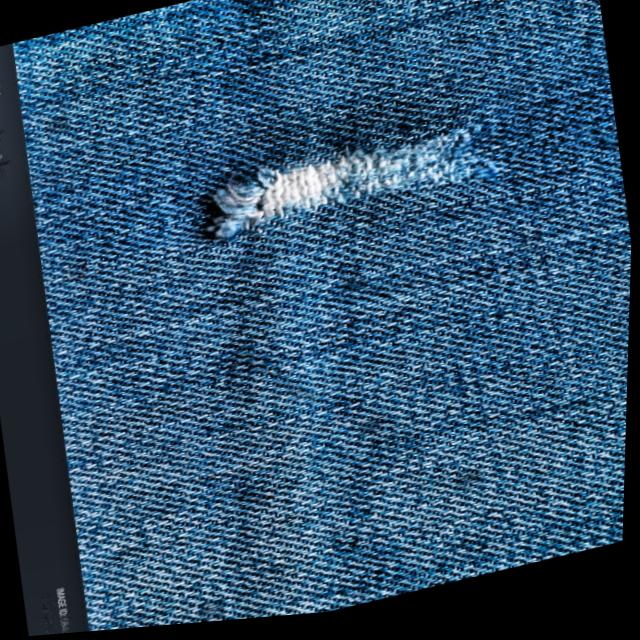Hole: (173, 100, 518, 280)
